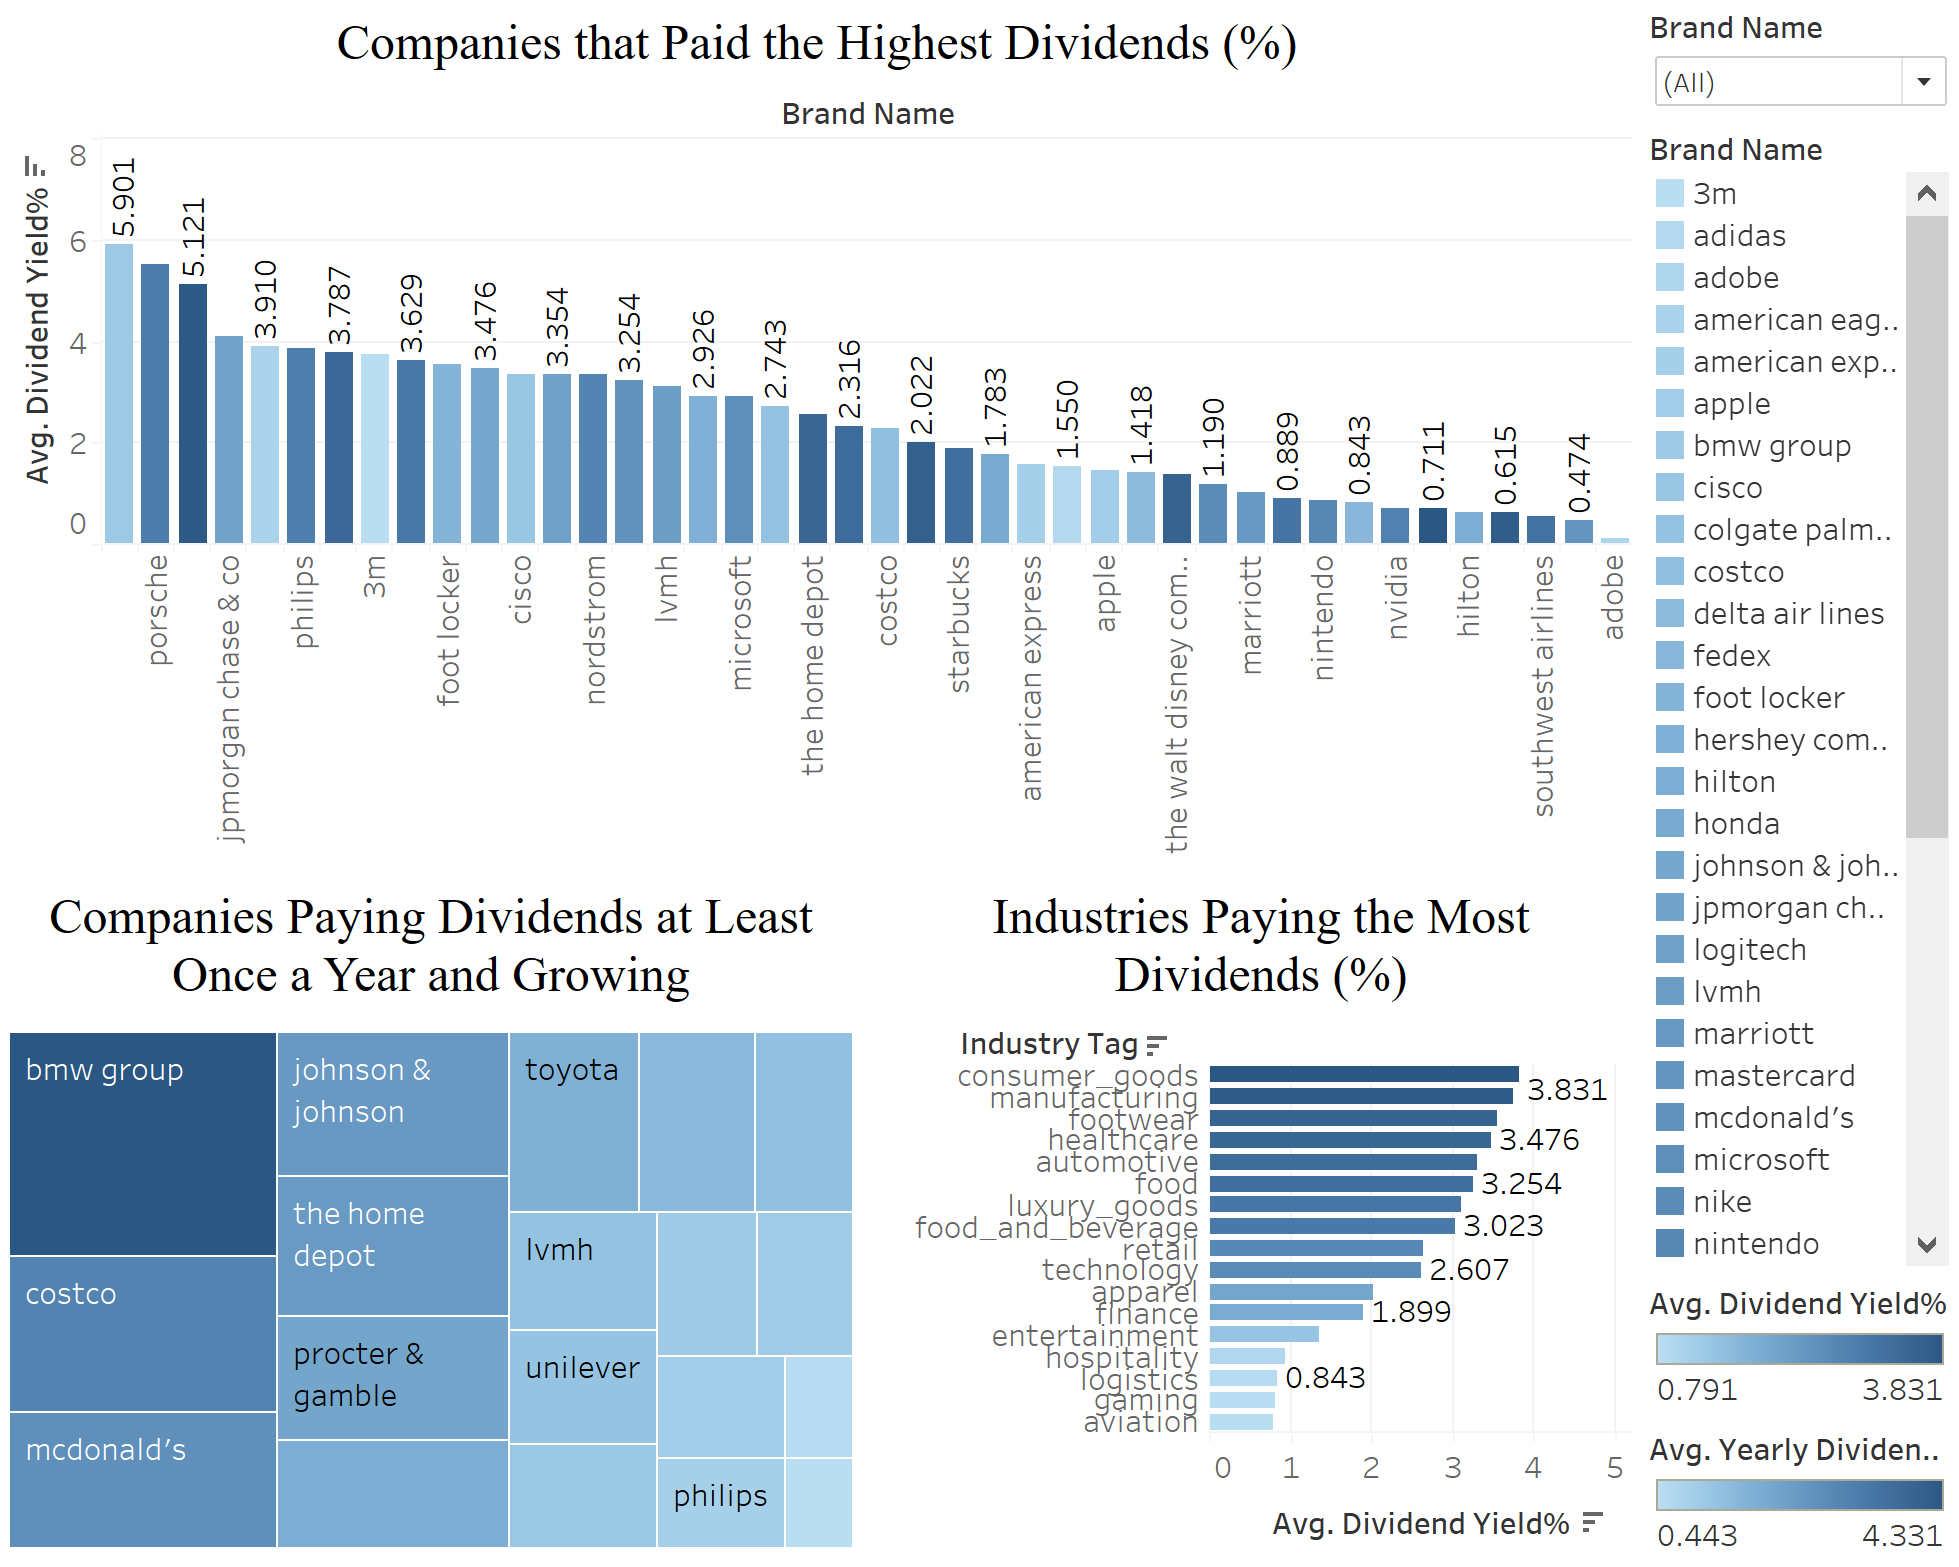

Layout of this report page (visuals, bound fields, positions):
{"tool":"tableau","page":{"name":"Dashboard 1","canvas":[1000,800],"ordinal":0},"visuals":[{"type":"worksheet","title":"Sheet 1","mark":"Automatic","rows":["Calculation_1480839861608030208"],"cols":["brand_name"],"box":[8,8,824,437]},{"type":"filter","title":"Sheet 1","param":"[federated.0fhl24k0af22ga10z2hi003i8lst].[none:brand_name:nk]","box":[832,8,160,61]},{"type":"legend","title":"Sheet 1","param":"[federated.0fhl24k0af22ga10z2hi003i8lst].[none:brand_name:nk]","box":[832,69,160,577]},{"type":"worksheet","title":"Sheet 4","mark":"Automatic","box":[8,445,444,347]},{"type":"worksheet","title":"Sheet 3","mark":"Bar","rows":["industry_tag"],"cols":["Calculation_1480839861608030208"],"box":[452,445,380,347]},{"type":"legend","title":"Sheet 3","param":"[federated.0fhl24k0af22ga10z2hi003i8lst].[avg:Calculation_1480839861608030208:qk","box":[832,646,160,73]},{"type":"legend","title":"Sheet 4","param":"[federated.0fhl24k0af22ga10z2hi003i8lst].[avg:Calculation_1480839861619851267:qk","box":[832,719,160,73]}]}

Visuals, with their boxes in screenshot pixels (x1, y1, x2, y2), scaled from the page's 1000x800 canvas onto the 1959x1567 screenshot:
"Sheet 1" worksheet: box=[16, 16, 1630, 872]
"Sheet 1" filter: box=[1630, 16, 1943, 135]
"Sheet 1" legend: box=[1630, 135, 1943, 1265]
"Sheet 4" worksheet: box=[16, 872, 885, 1551]
"Sheet 3" worksheet (Bar marks): box=[885, 872, 1630, 1551]
"Sheet 3" legend: box=[1630, 1265, 1943, 1408]
"Sheet 4" legend: box=[1630, 1408, 1943, 1551]
